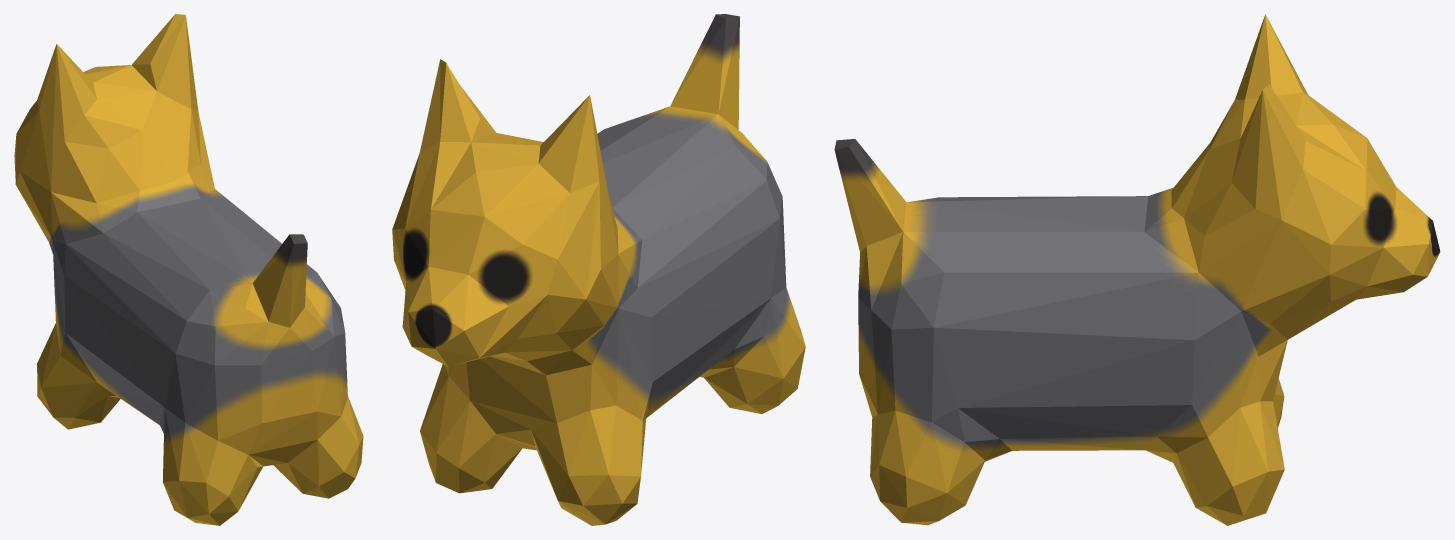
The model's file is animal_yorkie_blob.obj.
The picture shows the model from 3 angles, left to right: view 1: azimuth 30°, elevation 25°; view 2: azimuth 150°, elevation 25°; view 3: azimuth 270°, elevation 25°; orthographic projection. The views are drawn at different scales.
Visible parts, largest first — view 1: animal_yorkie_blob; view 2: animal_yorkie_blob; view 3: animal_yorkie_blob.
Part boxes in pixels (x1,y1,x2,y2): animal_yorkie_blob: (14,14,363,525); animal_yorkie_blob: (392,14,805,525); animal_yorkie_blob: (834,14,1440,525).
Bounding box in the file's own units: 0.2422 × 0.4716 × 0.5859.
